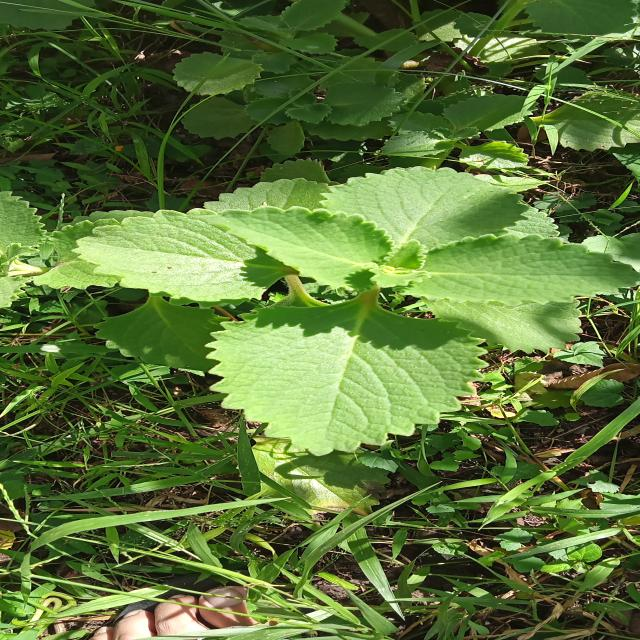Oregano: (0, 131, 640, 475)
